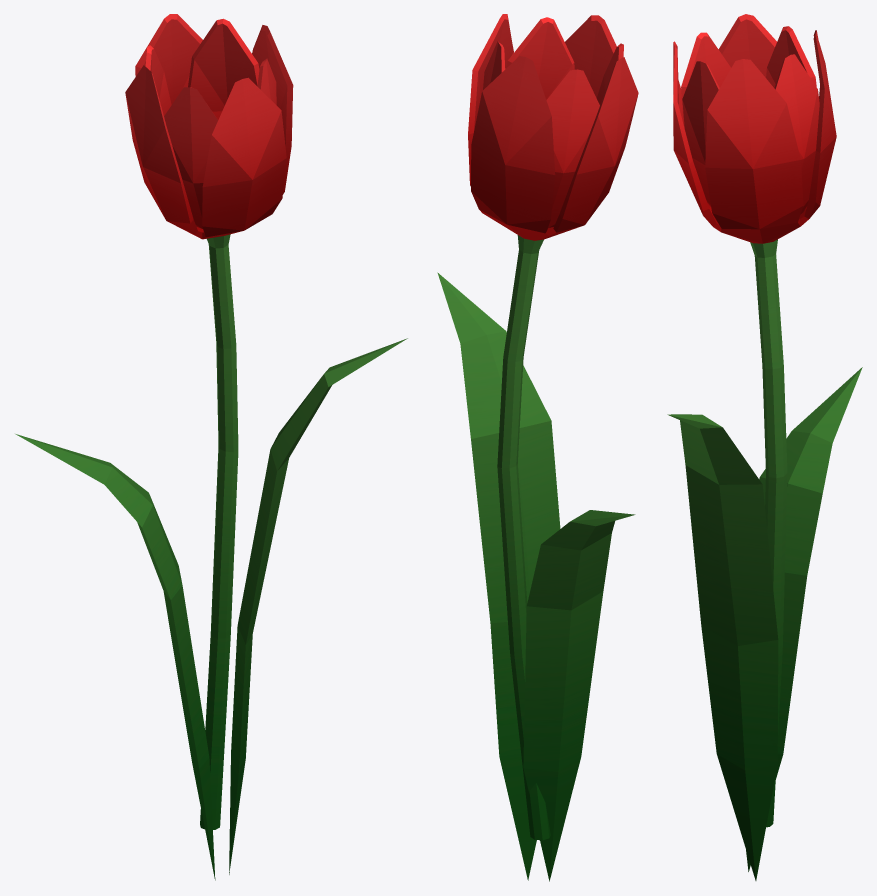
The model's file is Flower_Rose_04.fbx.
3 views of the same model, side by side, from view 1: azimuth 30°, elevation 25°; view 2: azimuth 150°, elevation 25°; view 3: azimuth 270°, elevation 25° (orthographic).
Visible parts, largest first — view 1: Flower_Rose_04; view 2: Flower_Rose_04; view 3: Flower_Rose_04.
Part boxes in pixels (x1=…): Flower_Rose_04: x1=15, y1=14, x2=407, y2=880; Flower_Rose_04: x1=437, y1=14, x2=638, y2=881; Flower_Rose_04: x1=667, y1=14, x2=862, y2=880.
Size of the model in its own units: 22.54 by 61.63 by 13.04.
